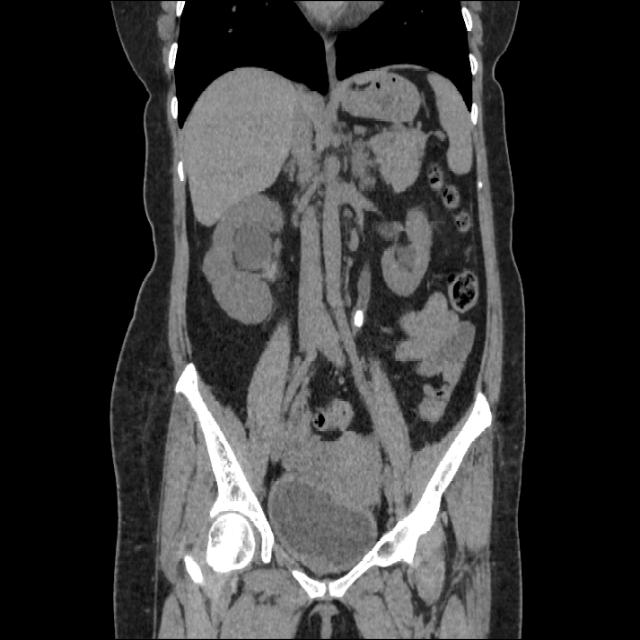kidney: (201, 192, 291, 328), (377, 201, 436, 302)
